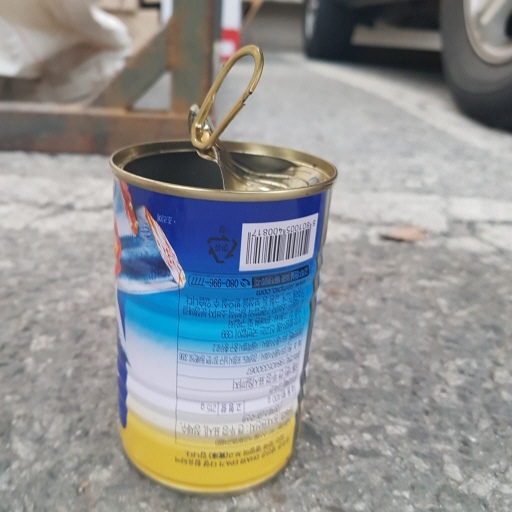Metal_1: (106, 44, 340, 500)
